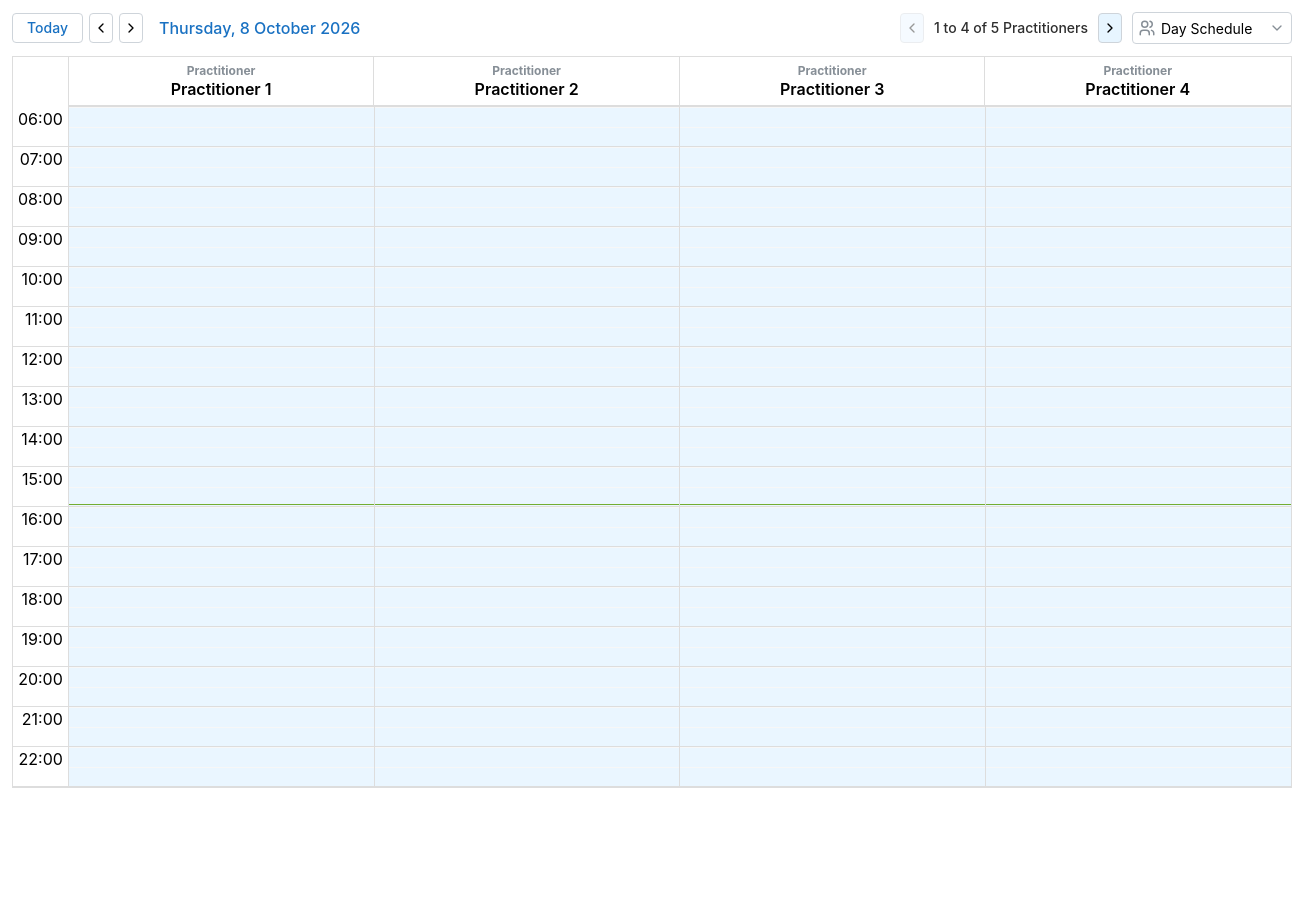
Test: CalendarSchedule › paginates practitioners when more than four are present
Expected: the text "1 to 4 of 5 Practitioners" is shown, [934,18,1088,38]
Click the button named "Next practitioners": [1110, 28] box [1098,13,1122,43]
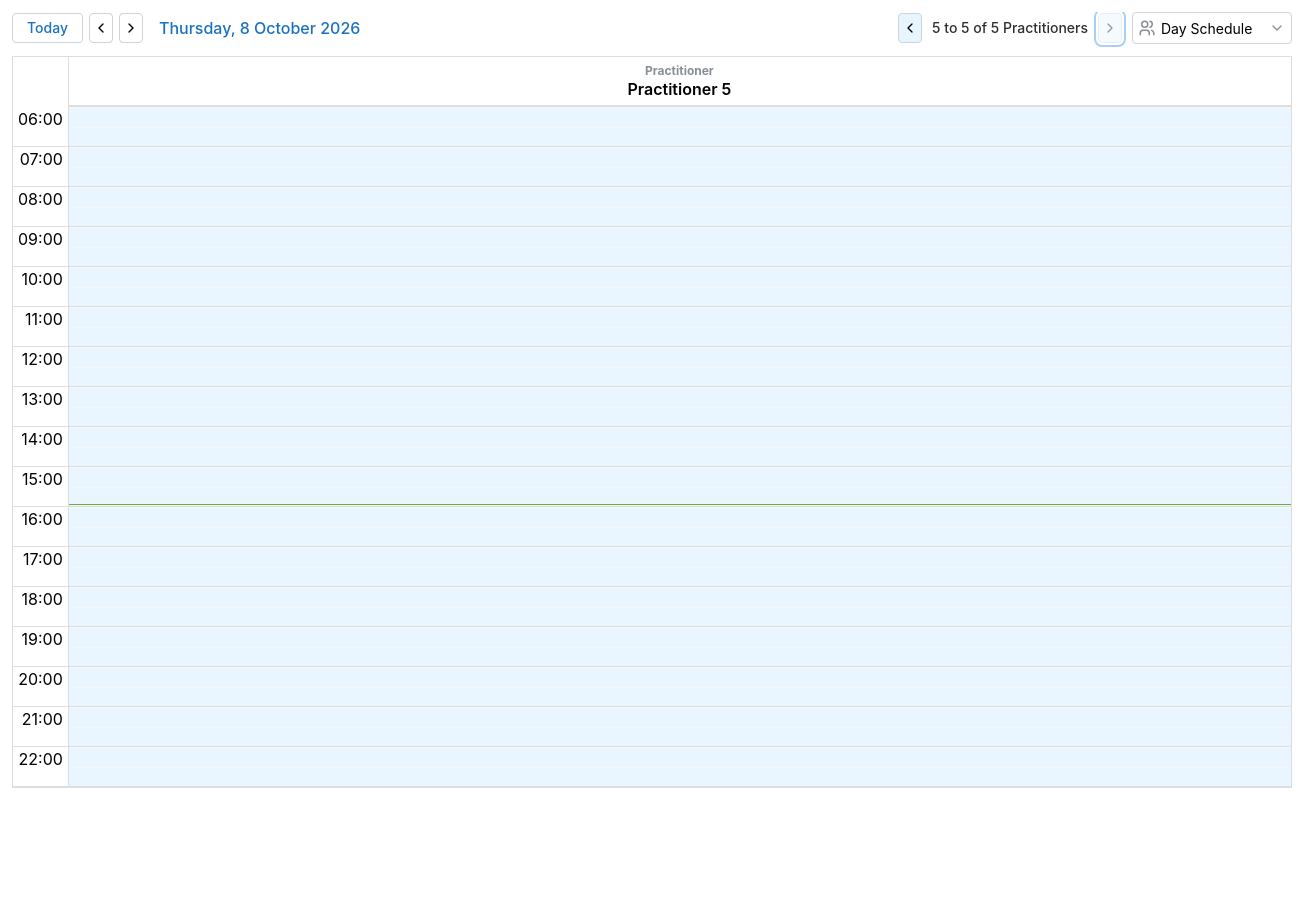
Result: the text "5 to 5 of 5 Practitioners" is shown at [932,18,1088,38]
